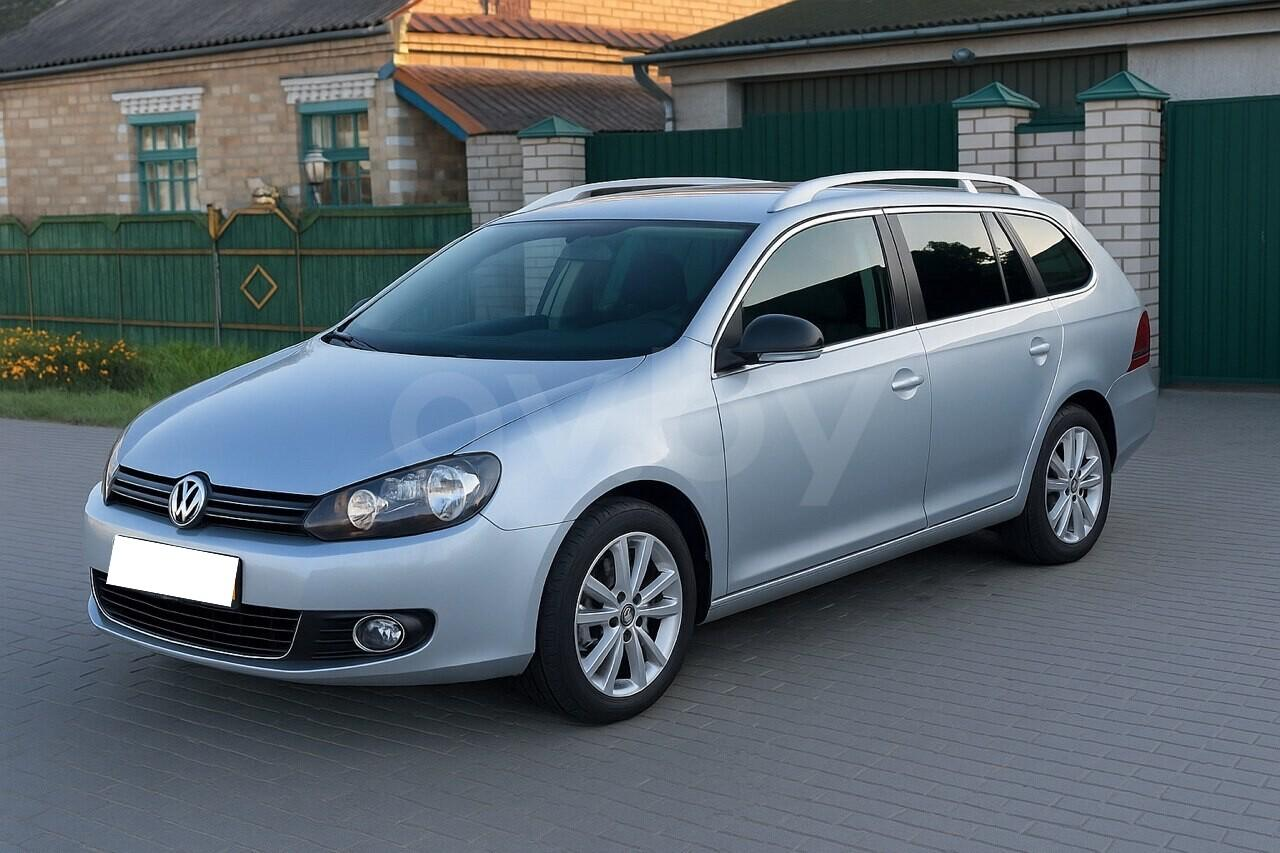Golf_2008-2013: (85, 175, 1163, 715)
